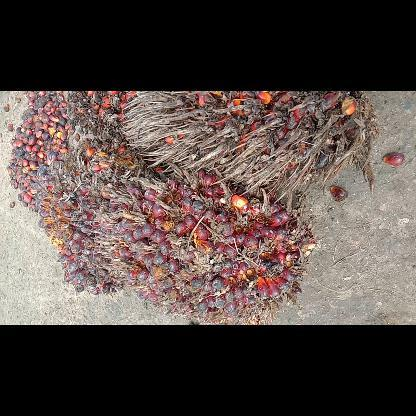TBS masak: (93, 170, 314, 324), (34, 142, 168, 294)
Terlalu masak: (120, 91, 374, 201), (66, 90, 136, 140)
